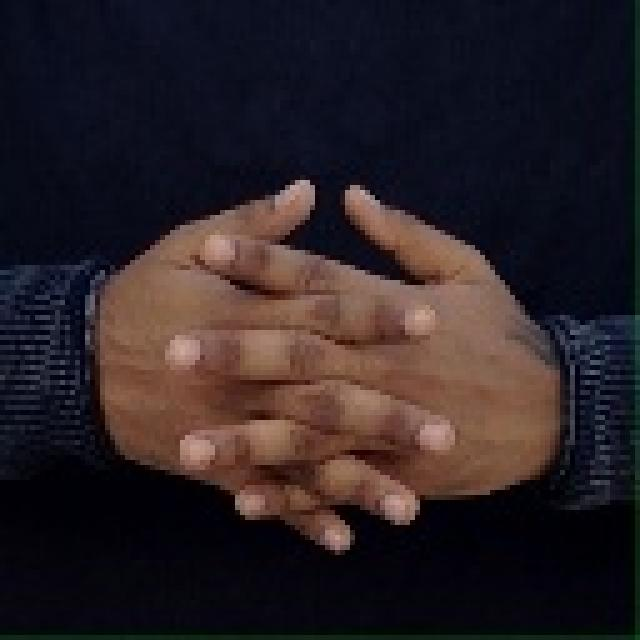Alphabet-W: (88, 166, 576, 572)
